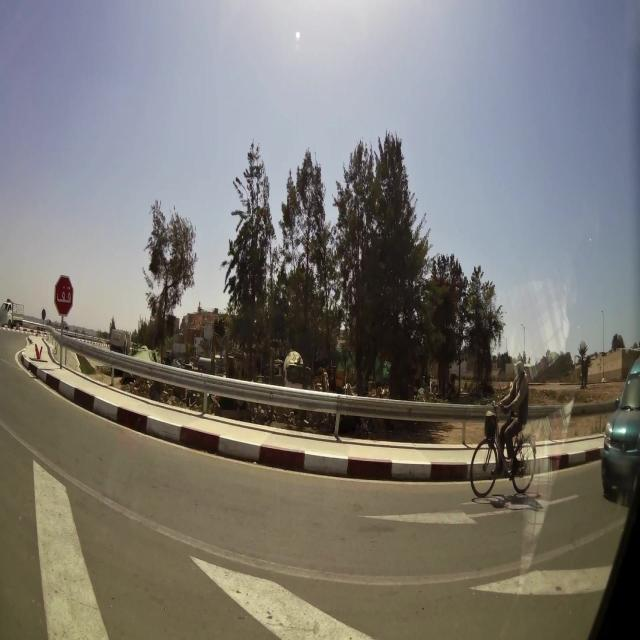bike: (469, 395, 536, 500)
car: (601, 348, 640, 506)
